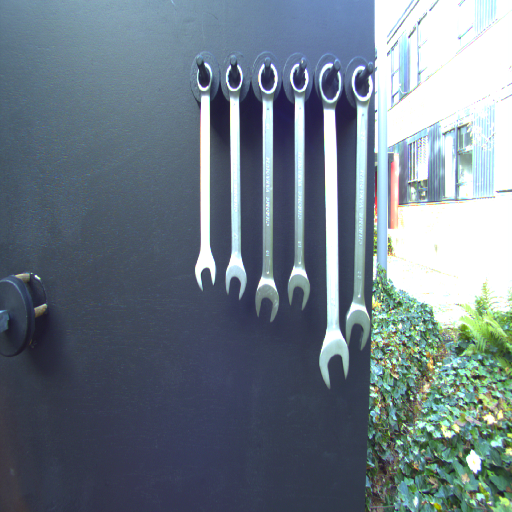bottom: (315, 329, 352, 391), (342, 298, 372, 353), (253, 274, 281, 324), (192, 250, 219, 294), (287, 262, 310, 313), (224, 255, 248, 302)
top: (314, 59, 345, 109), (349, 58, 377, 108), (286, 59, 311, 98), (256, 62, 278, 95), (194, 61, 215, 91), (224, 62, 244, 93)
